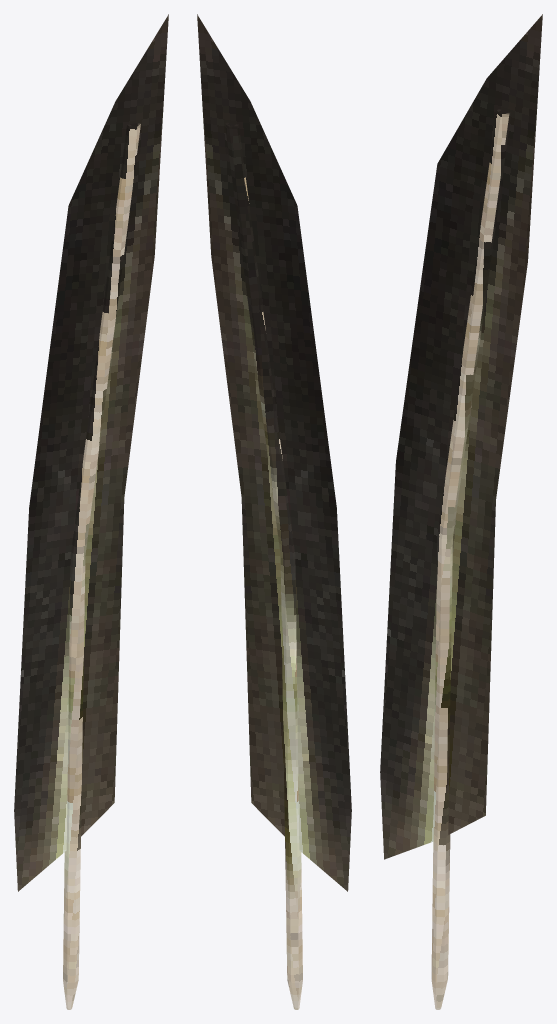
File: Quill.gltf
3 views of the same model, side by side, from view 1: azimuth 30°, elevation 25°; view 2: azimuth 150°, elevation 25°; view 3: azimuth 330°, elevation 25° (orthographic). The views are drawn at different scales.
Parts seen in each view (by area): view 1: Quill; view 2: Quill; view 3: Quill.
Boxes of the visible parts, x1,y1,x2,y2 form: Quill: [14, 14, 168, 1009]; Quill: [197, 14, 351, 1009]; Quill: [380, 14, 542, 1009].
Bounding box in the file's own units: 0.4946 × 2.96 × 0.0463.
Materials: 1 (1 with a texture image).
